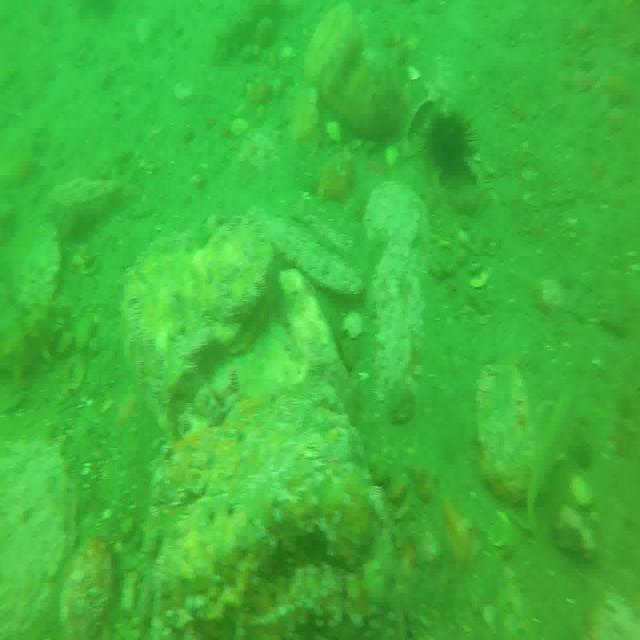echinus: (429, 113, 474, 178)
